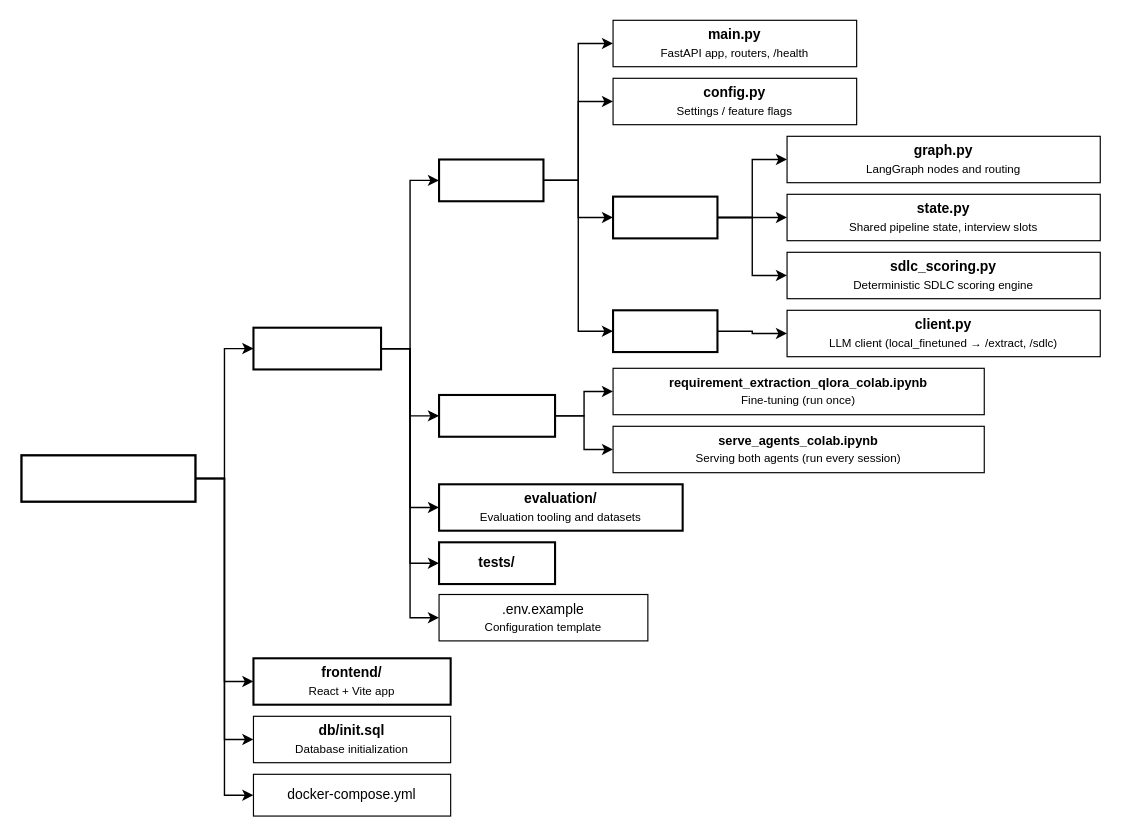
Some shapes in this 1121 by 836 pixel diagram are drawn without their labels. Here are the shapes that lost their labels. From the top down, the centre of each, then its label:
(x=490, y=180): app/
(x=664, y=217): graph/
(x=317, y=348): backend/
(x=664, y=331): llm/
(x=496, y=415): notebooks/
(x=108, y=478): loan-origination/
